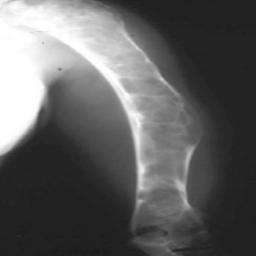cancer: (10, 0, 202, 243)
